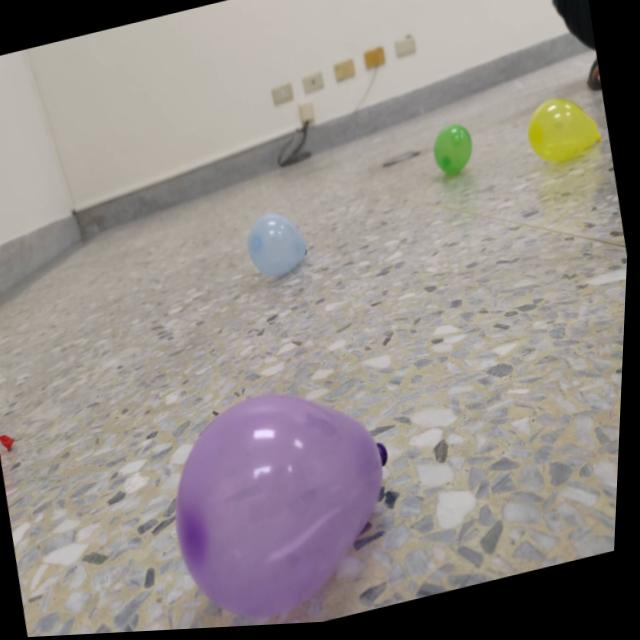other: (156, 368, 421, 633), (522, 94, 608, 173), (243, 210, 316, 289), (429, 124, 479, 185)
red: (0, 398, 22, 456)
